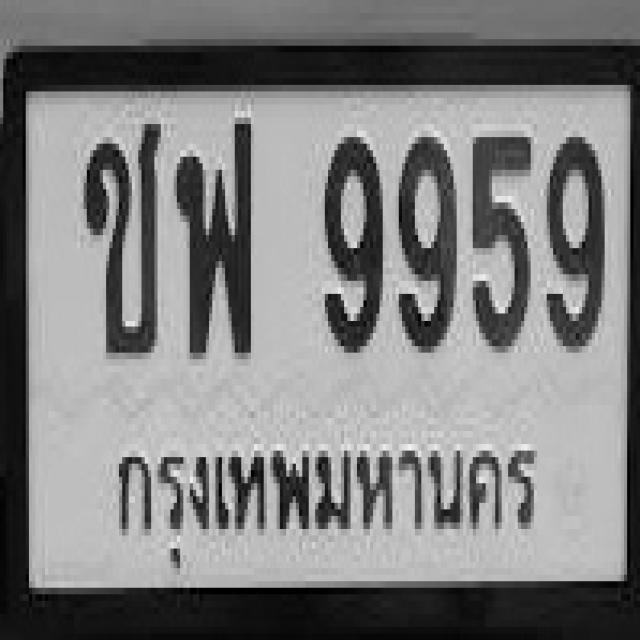19ChorChang: (75, 88, 166, 392)
40ForFun: (166, 103, 264, 363)
5: (464, 105, 535, 393)
9: (306, 100, 392, 394), (542, 121, 610, 400), (393, 123, 461, 382)
Bangkok: (107, 413, 565, 580)
